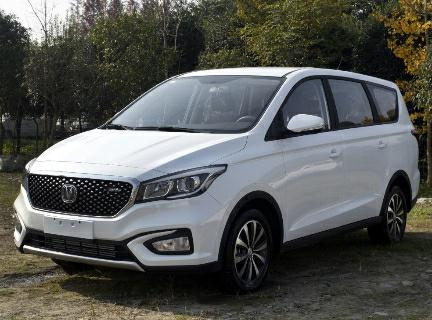长安-凌轩: (10, 69, 425, 295)
